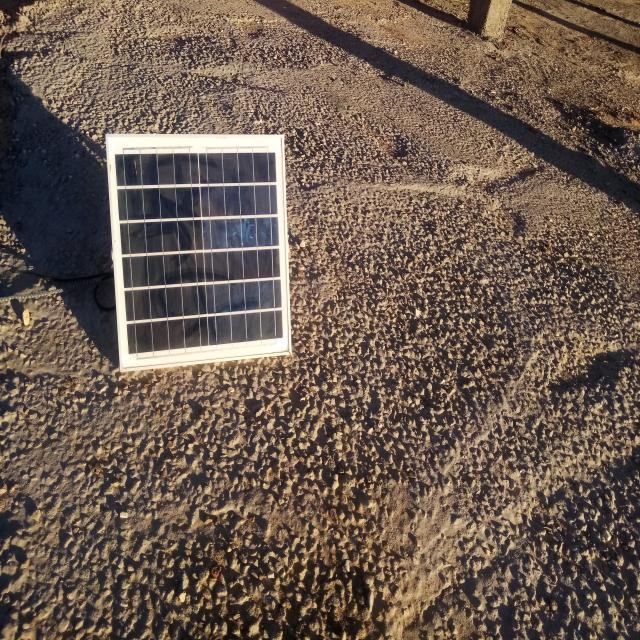faulty: (108, 142, 291, 367)
